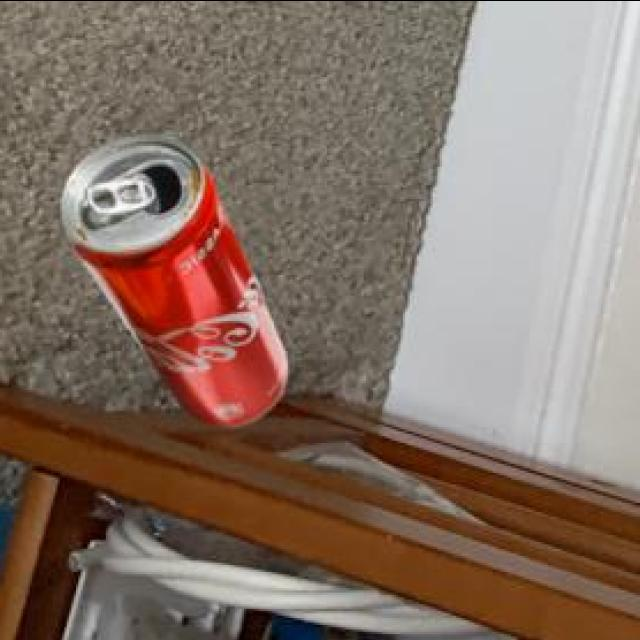logam: (66, 137, 289, 429)
